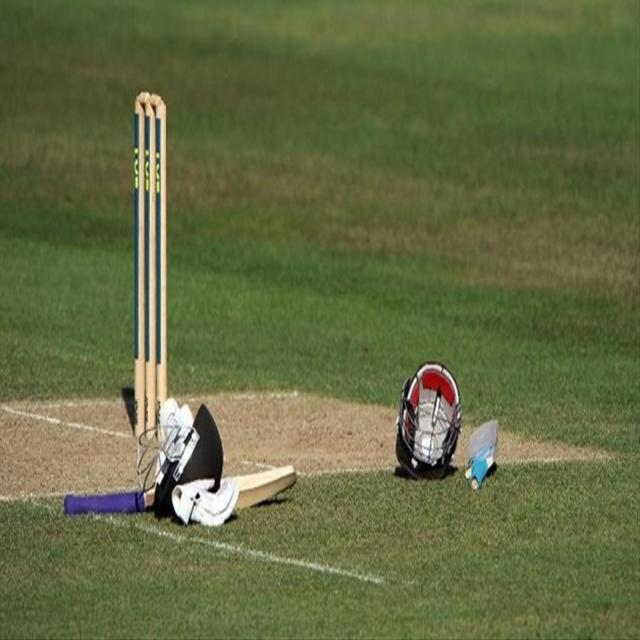stump: (134, 90, 168, 445)
